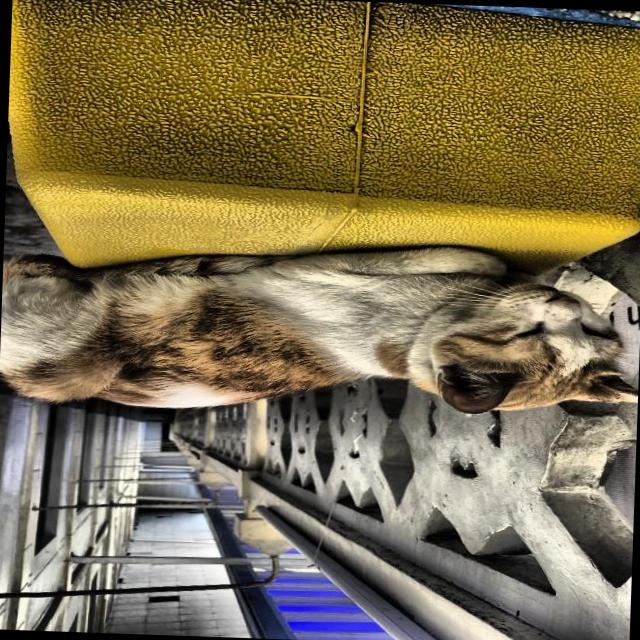Healthy skin: (137, 259, 370, 383)
